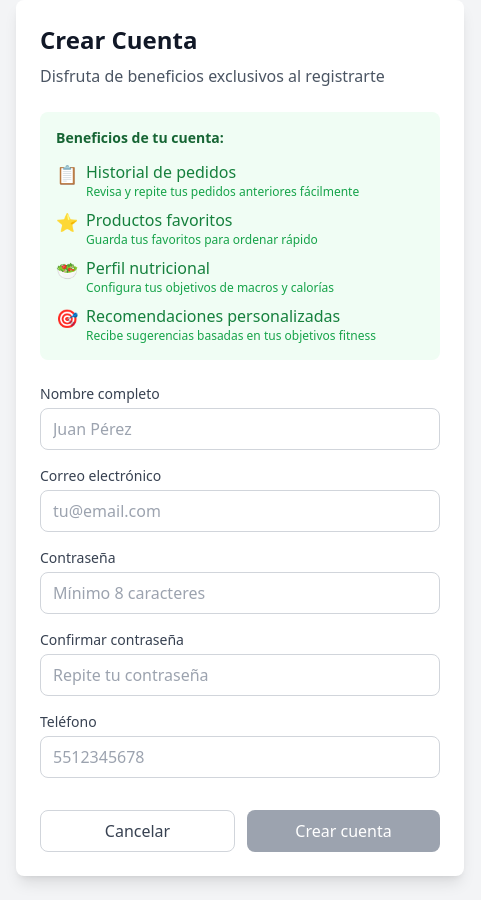
Scenario: RegistrationForm › Validation › should show error when passwords do not match
Type "Password123!" into the password field labelled "Contraseña" at [240, 593], box [40, 572, 440, 614]
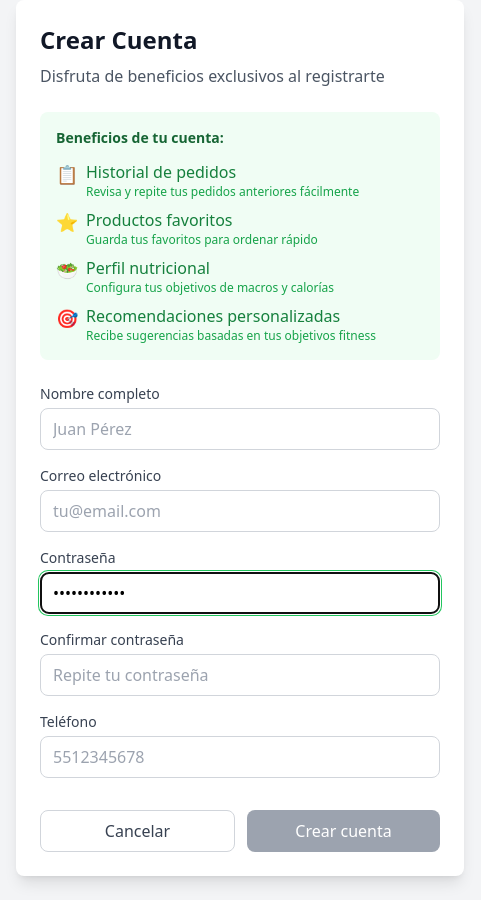
Type "DifferentPassword!" into the password field labelled "Confirmar contraseña" at [240, 675], box [40, 654, 440, 696]
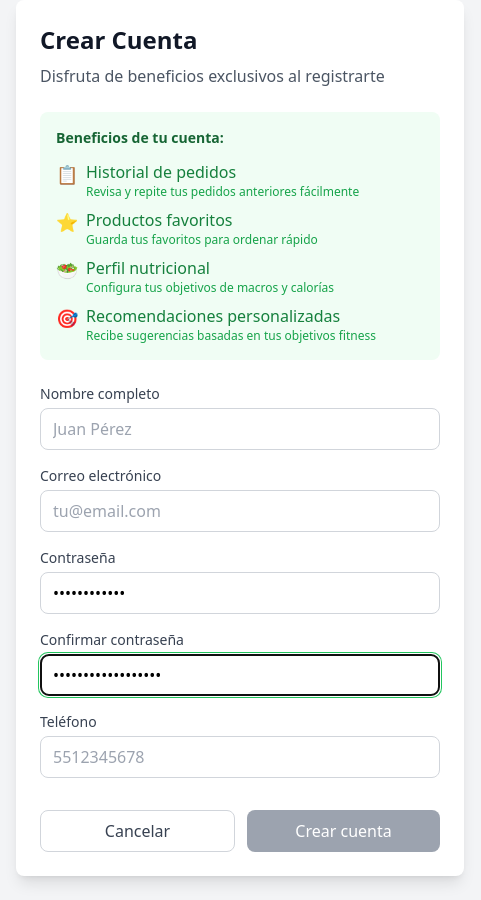
Press Tab
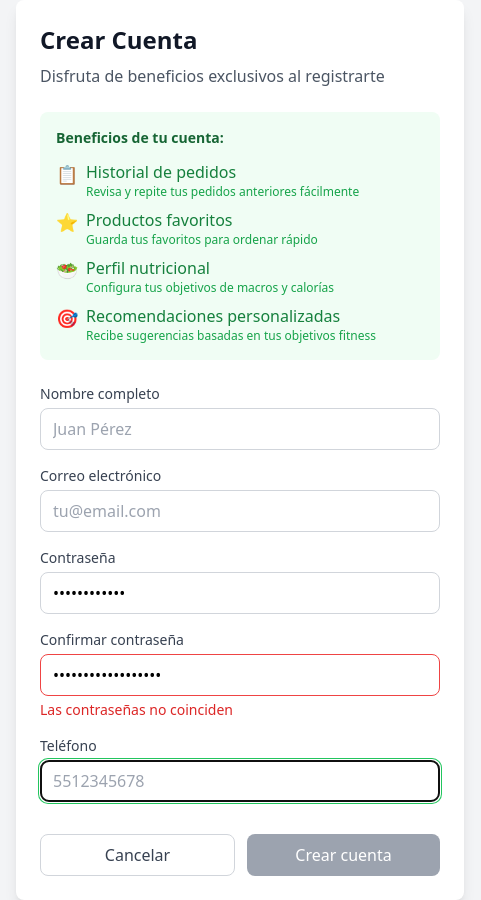
Now the text "Las contraseñas no coinciden" is shown, box [40, 700, 233, 719]
